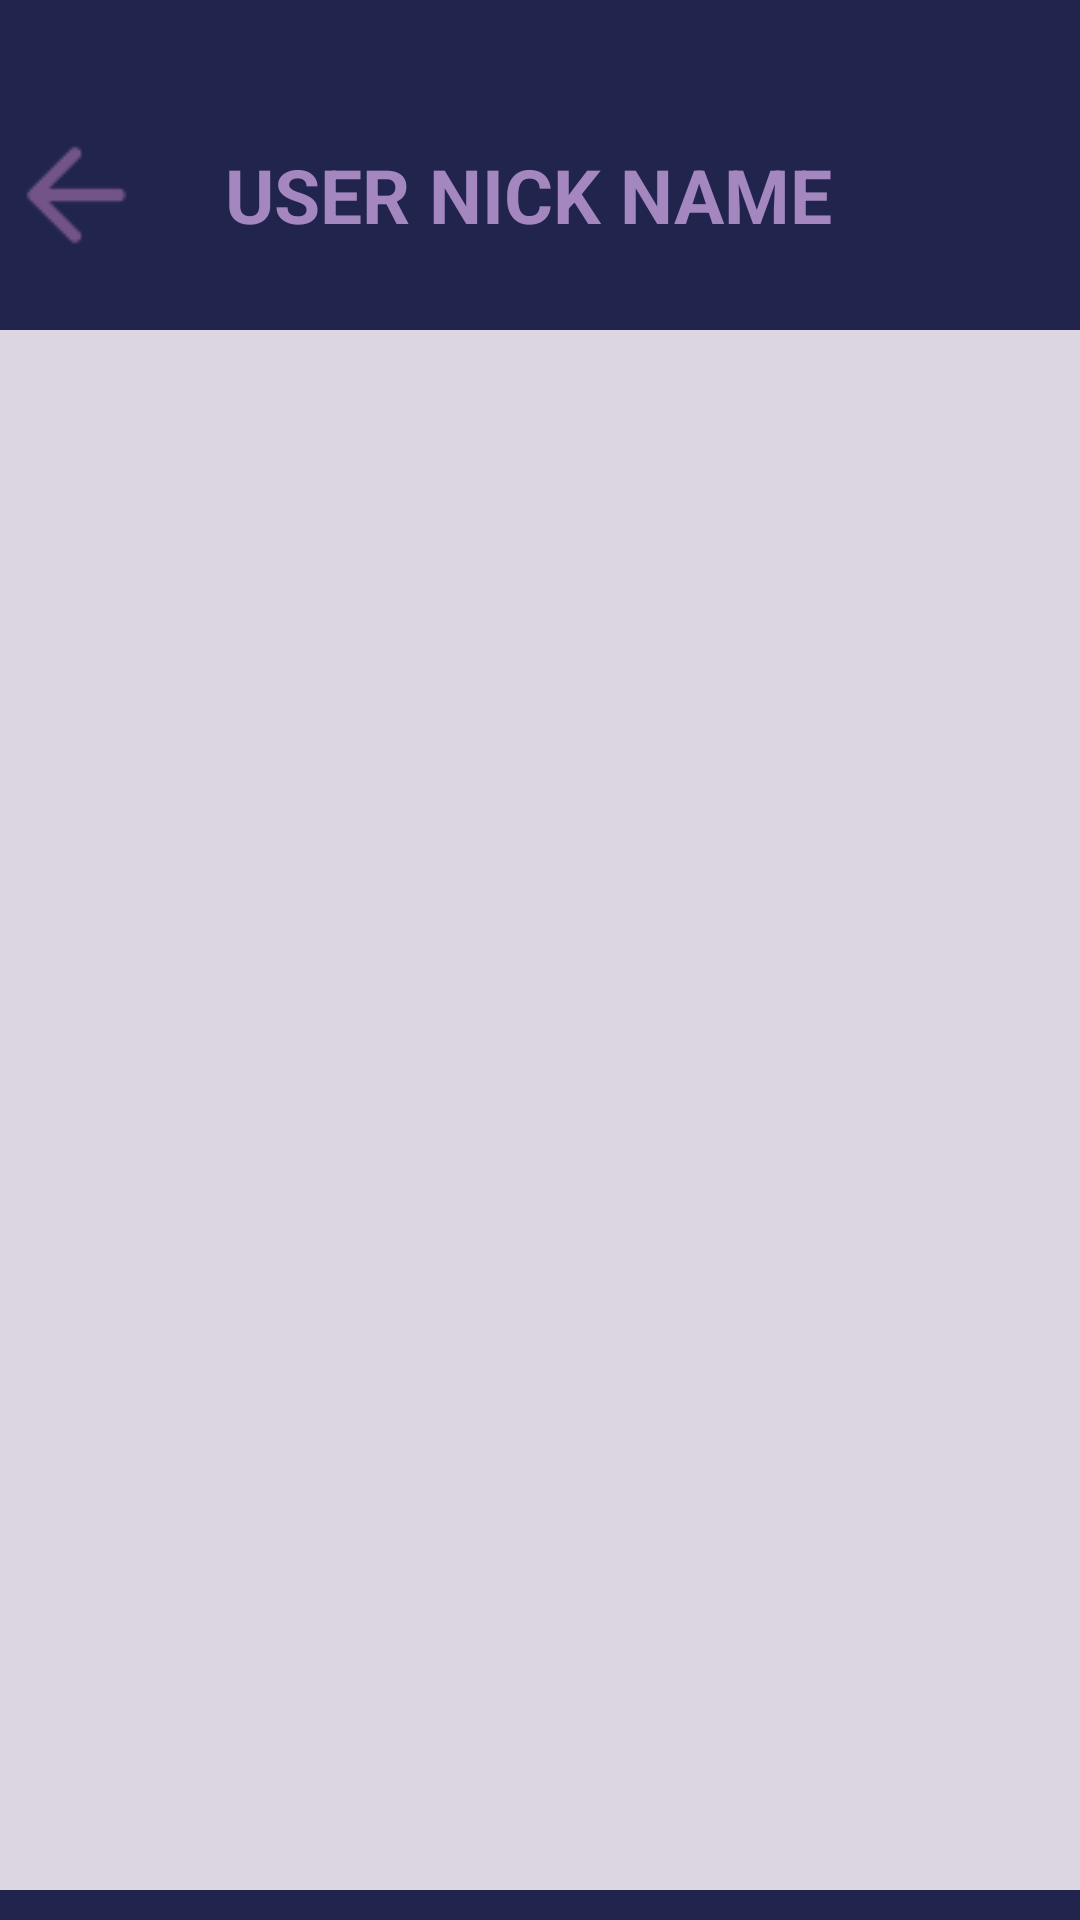

Where to tap for icons on this 1080 x 1920 app screen, as [x,y]:
back: [76,195]
